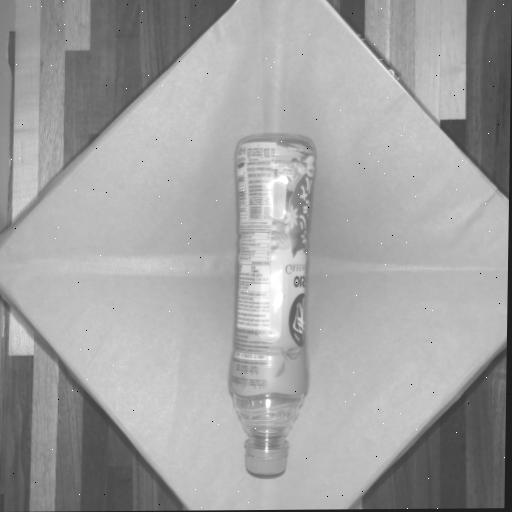bottle: (202, 120, 334, 489)
